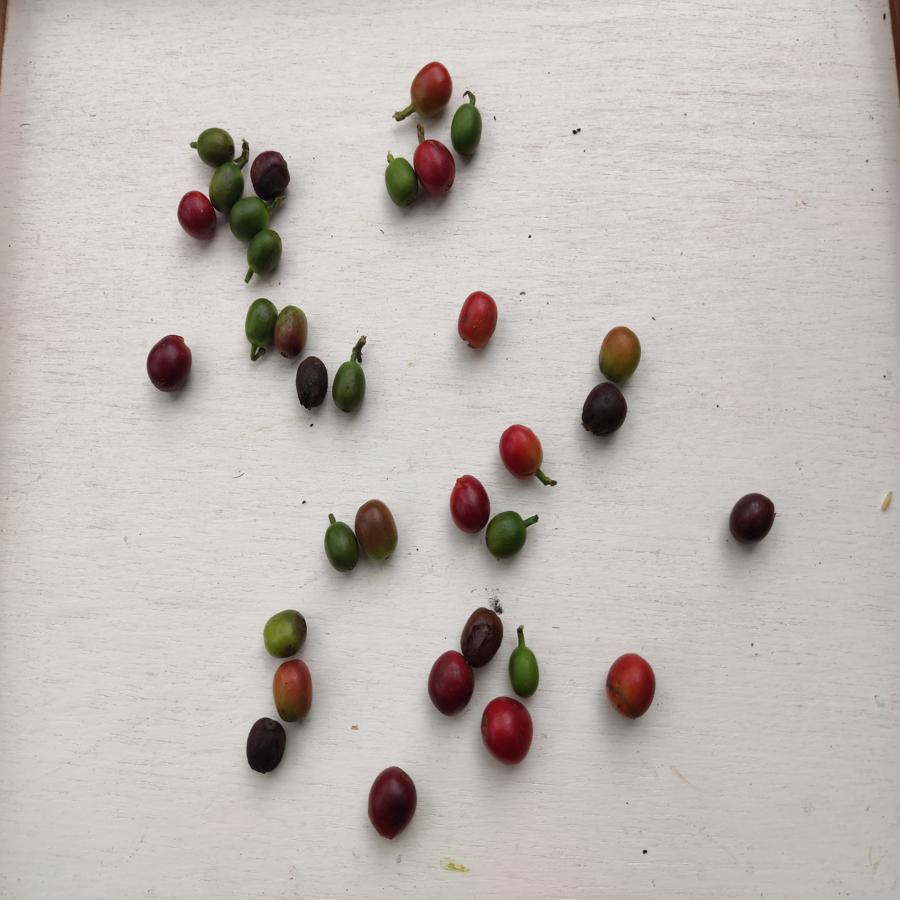Inmaduro: (487, 510, 531, 565), (259, 609, 307, 657), (507, 643, 545, 700), (320, 518, 358, 574), (449, 100, 486, 157), (331, 359, 367, 415), (383, 153, 414, 215), (247, 231, 284, 282), (229, 194, 267, 240), (193, 125, 236, 165), (243, 297, 274, 350), (209, 161, 242, 208)
Maduro: (477, 696, 537, 766), (605, 647, 656, 719), (496, 424, 551, 485), (457, 287, 501, 355), (405, 59, 453, 115), (412, 139, 459, 195)
Pinton: (597, 317, 643, 385), (354, 499, 401, 562), (271, 661, 317, 721), (274, 303, 312, 357)
Sobremaduro: (367, 766, 419, 839), (421, 650, 475, 719), (143, 332, 195, 399), (457, 600, 505, 663), (577, 383, 629, 439), (448, 473, 492, 536), (726, 492, 777, 545), (243, 716, 286, 772), (173, 190, 216, 245), (247, 150, 293, 201), (293, 355, 329, 411)
